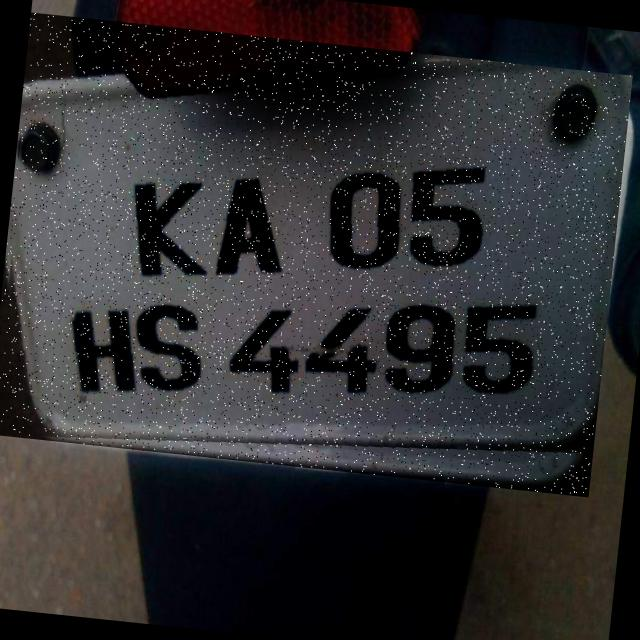Plate: (1, 13, 633, 498)
